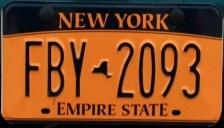0: (136, 42, 158, 100)
2: (114, 39, 137, 101)
3: (179, 42, 205, 100)
9: (159, 41, 180, 100)
B: (44, 42, 68, 98)
F: (22, 39, 45, 100)
Y: (69, 41, 92, 99)
